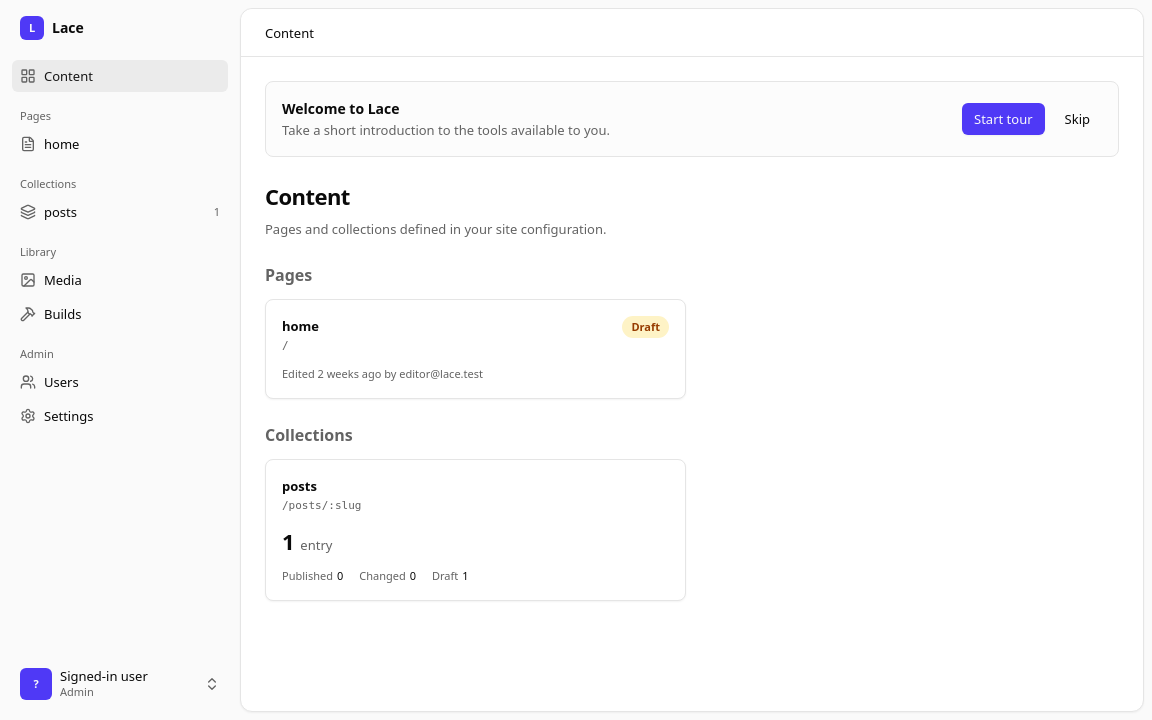
Test: admin can skip the invitation and replay from the account menu
Expected: the heading "Content" is shown, left=265, top=181, right=350, bottom=211
Click the button "Skip": (1077, 119) left=1053, top=103, right=1102, bottom=135
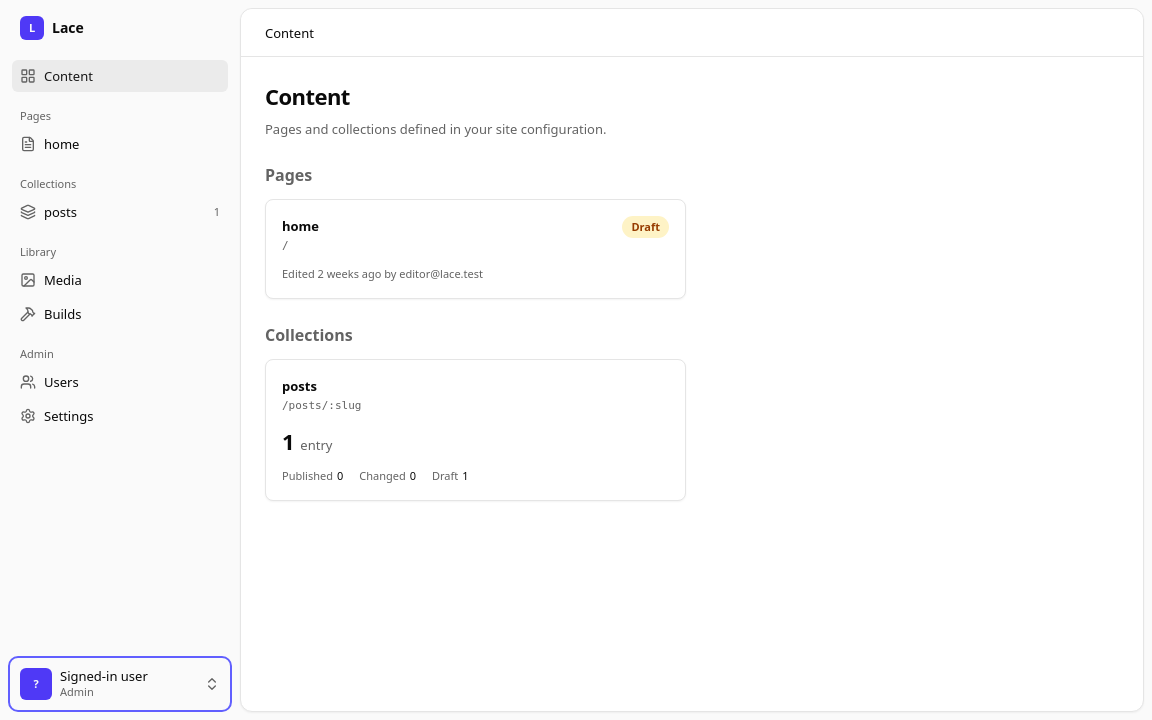
Press Enter
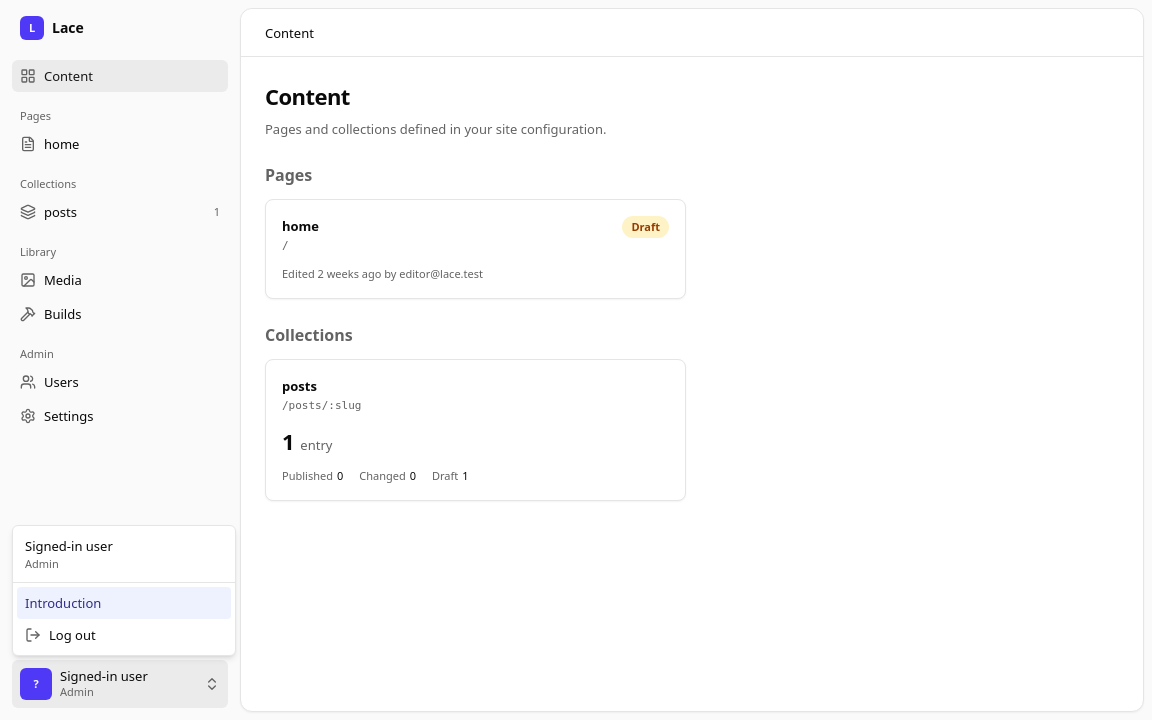
Click the menu item "Introduction": (124, 603) left=17, top=587, right=231, bottom=619
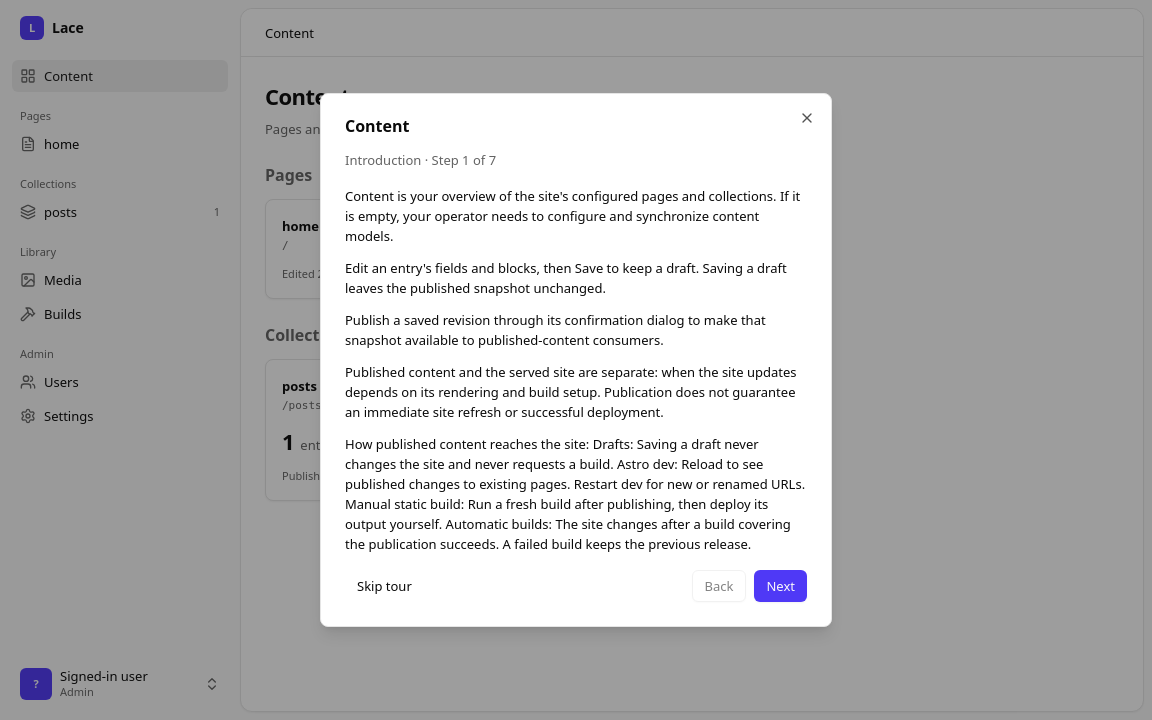
Result: the dialog named "Content, Step 1" is shown at left=320, top=93, right=832, bottom=627
Press Escape
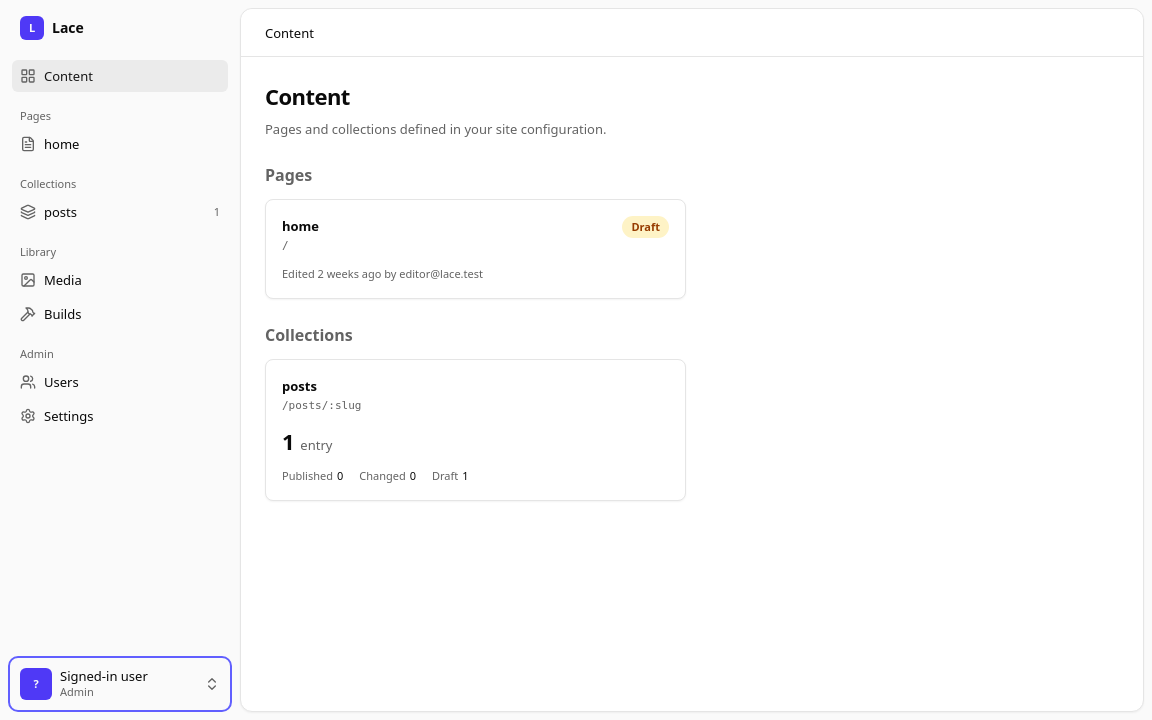
Result: the dialog is gone
